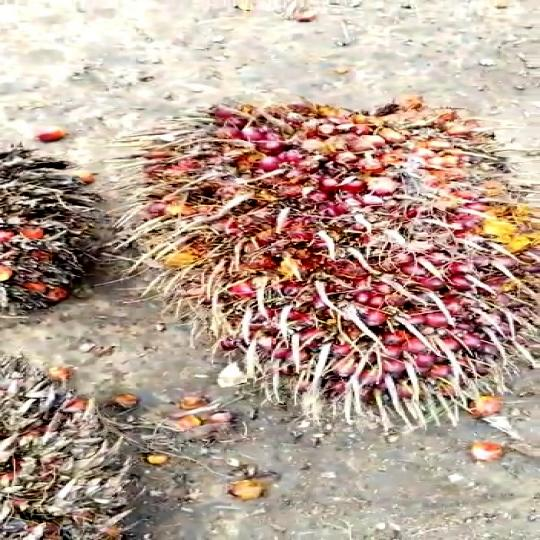masak: (142, 99, 540, 394)
